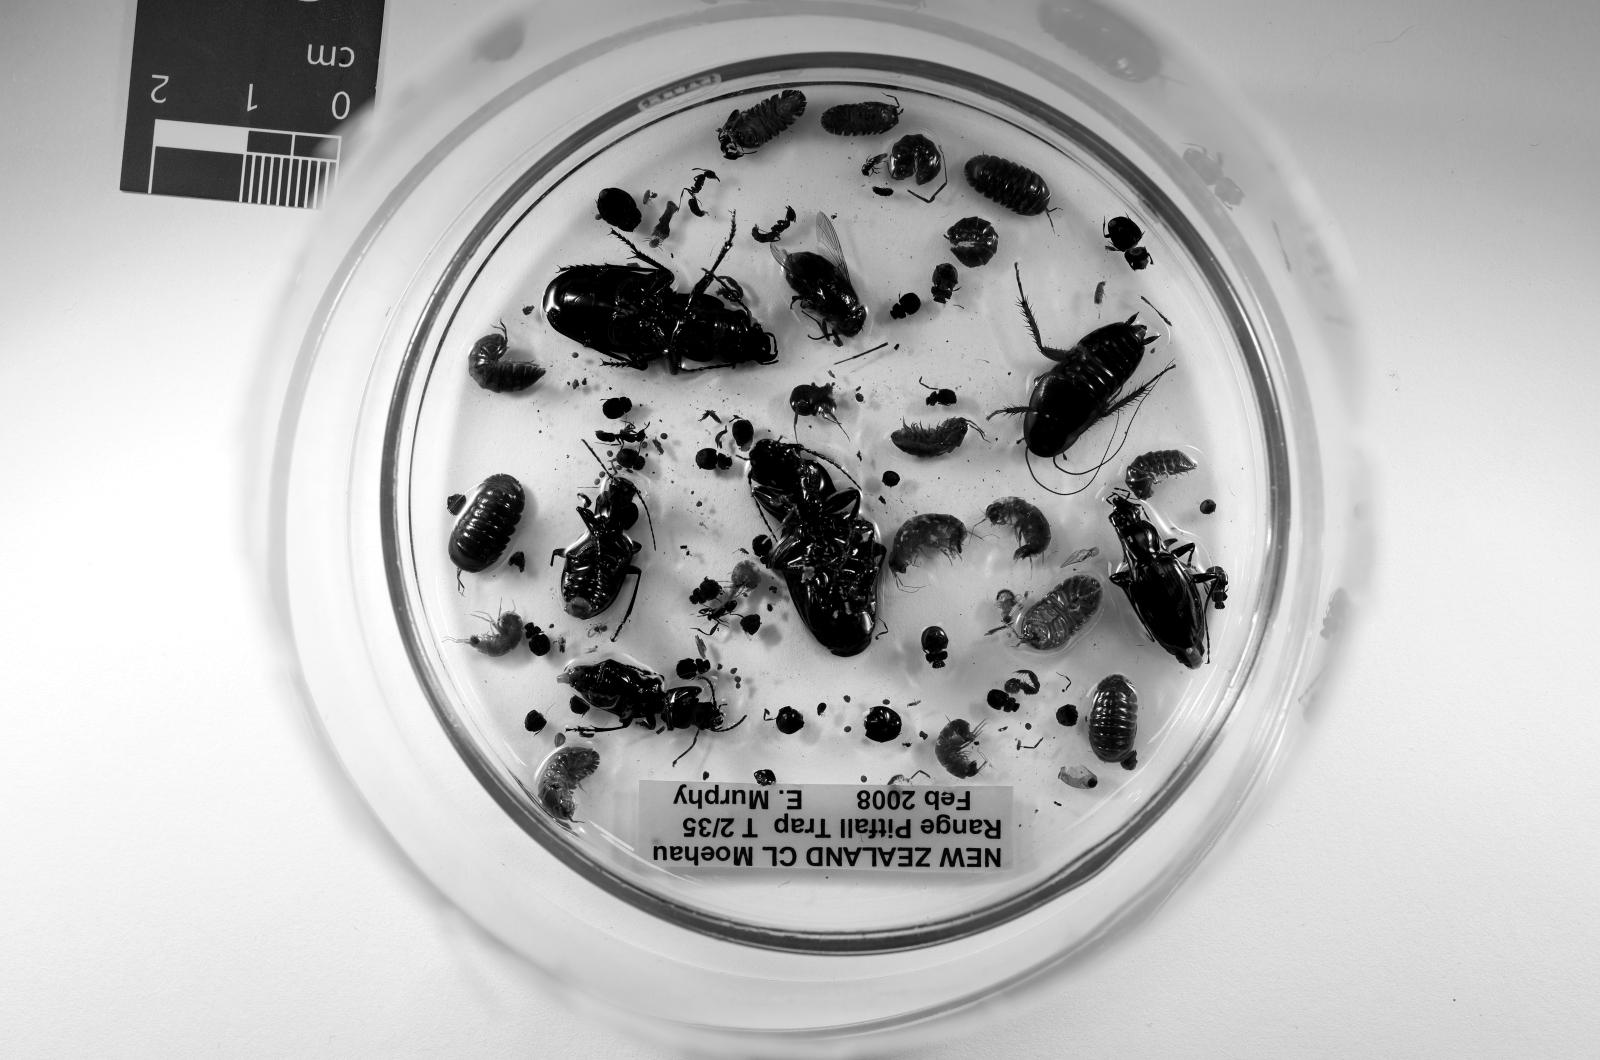amphipoda: (887, 512, 969, 587), (984, 497, 1050, 558), (456, 612, 525, 658), (934, 720, 978, 780), (731, 558, 763, 596), (997, 590, 1016, 625)
blattodea: (997, 295, 1159, 457)
carabidae: (747, 441, 887, 655), (544, 264, 778, 373), (1109, 491, 1206, 667), (559, 658, 725, 733), (553, 476, 641, 618)
coleoptera: (1103, 218, 1153, 270), (931, 264, 959, 304), (922, 627, 950, 667), (1206, 565, 1229, 608), (525, 625, 553, 655), (691, 577, 721, 606), (890, 292, 922, 319), (675, 658, 713, 680), (697, 447, 731, 468), (731, 419, 753, 451), (616, 447, 643, 472), (987, 690, 1018, 711), (925, 388, 957, 407), (603, 397, 631, 419)
diptera: (772, 214, 866, 338)
formicidae: (685, 168, 719, 218), (753, 205, 797, 243), (719, 109, 740, 159), (597, 422, 647, 444), (697, 600, 738, 621), (860, 153, 887, 177)
isopoda: (447, 476, 525, 571), (1018, 575, 1103, 649), (468, 323, 544, 392), (535, 745, 600, 823), (966, 155, 1050, 214), (731, 90, 807, 149), (1088, 674, 1138, 761), (1125, 451, 1197, 500), (890, 419, 982, 457), (822, 103, 903, 137), (887, 134, 940, 183), (947, 218, 997, 267)
opiliones: (791, 382, 837, 435)
